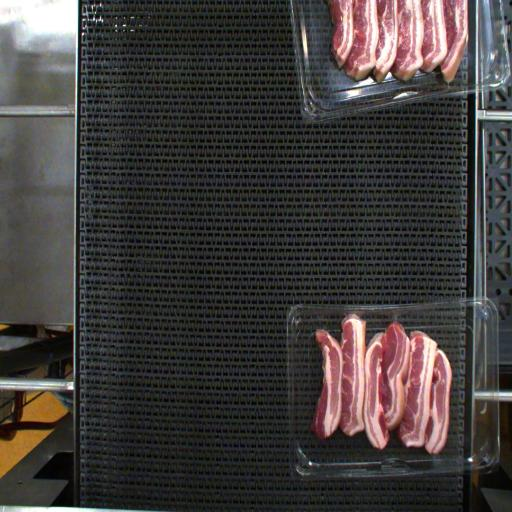packaging-error: (342, 309, 365, 318), (391, 316, 400, 325)
